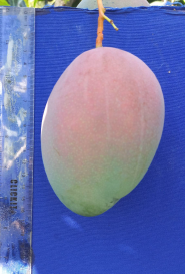Mango-sano: (41, 47, 164, 216)
